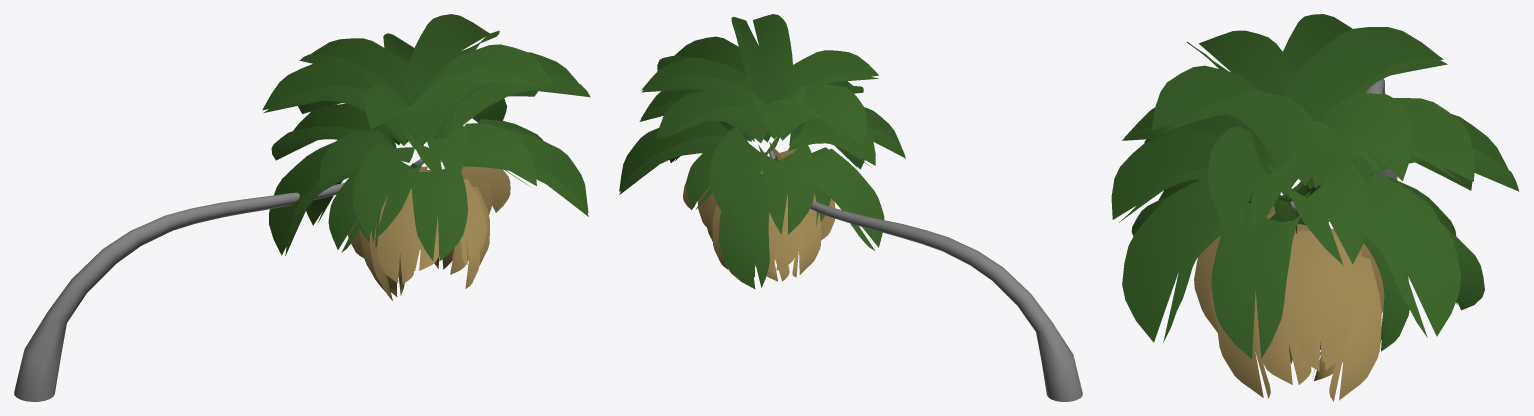
Rendered from SM_palm_tree_tropical_03.fbx.
3 views of the same model, side by side, from view 1: azimuth 30°, elevation 25°; view 2: azimuth 150°, elevation 25°; view 3: azimuth 270°, elevation 25° (orthographic). The views are drawn at different scales.
Parts seen in each view (by area): view 1: Object008; view 2: Object008; view 3: Object008.
Part boxes in pixels (left/top/right/bottom): Object008: left=14, top=14, right=590, bottom=401; Object008: left=619, top=14, right=1082, bottom=401; Object008: left=1111, top=14, right=1519, bottom=401.
Bounding box in the file's own units: 253 × 129 × 127.
